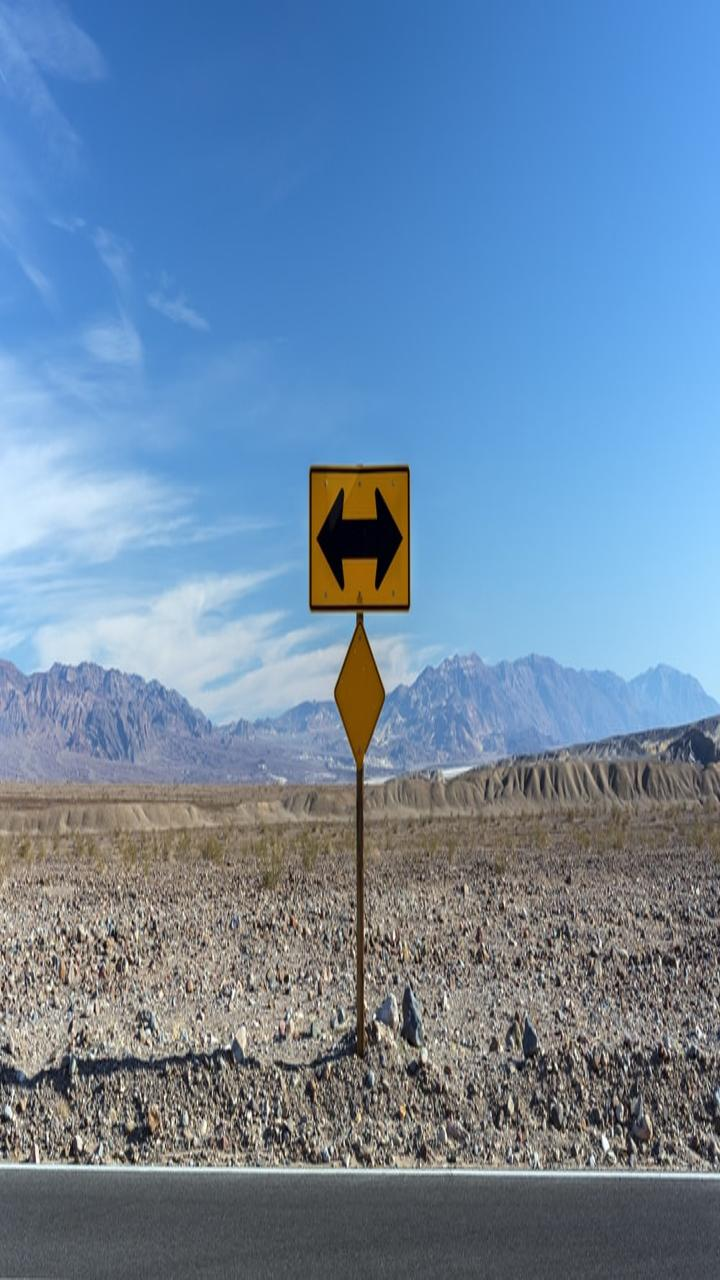Traffic sign: (278, 452, 443, 632), (276, 611, 441, 791)
